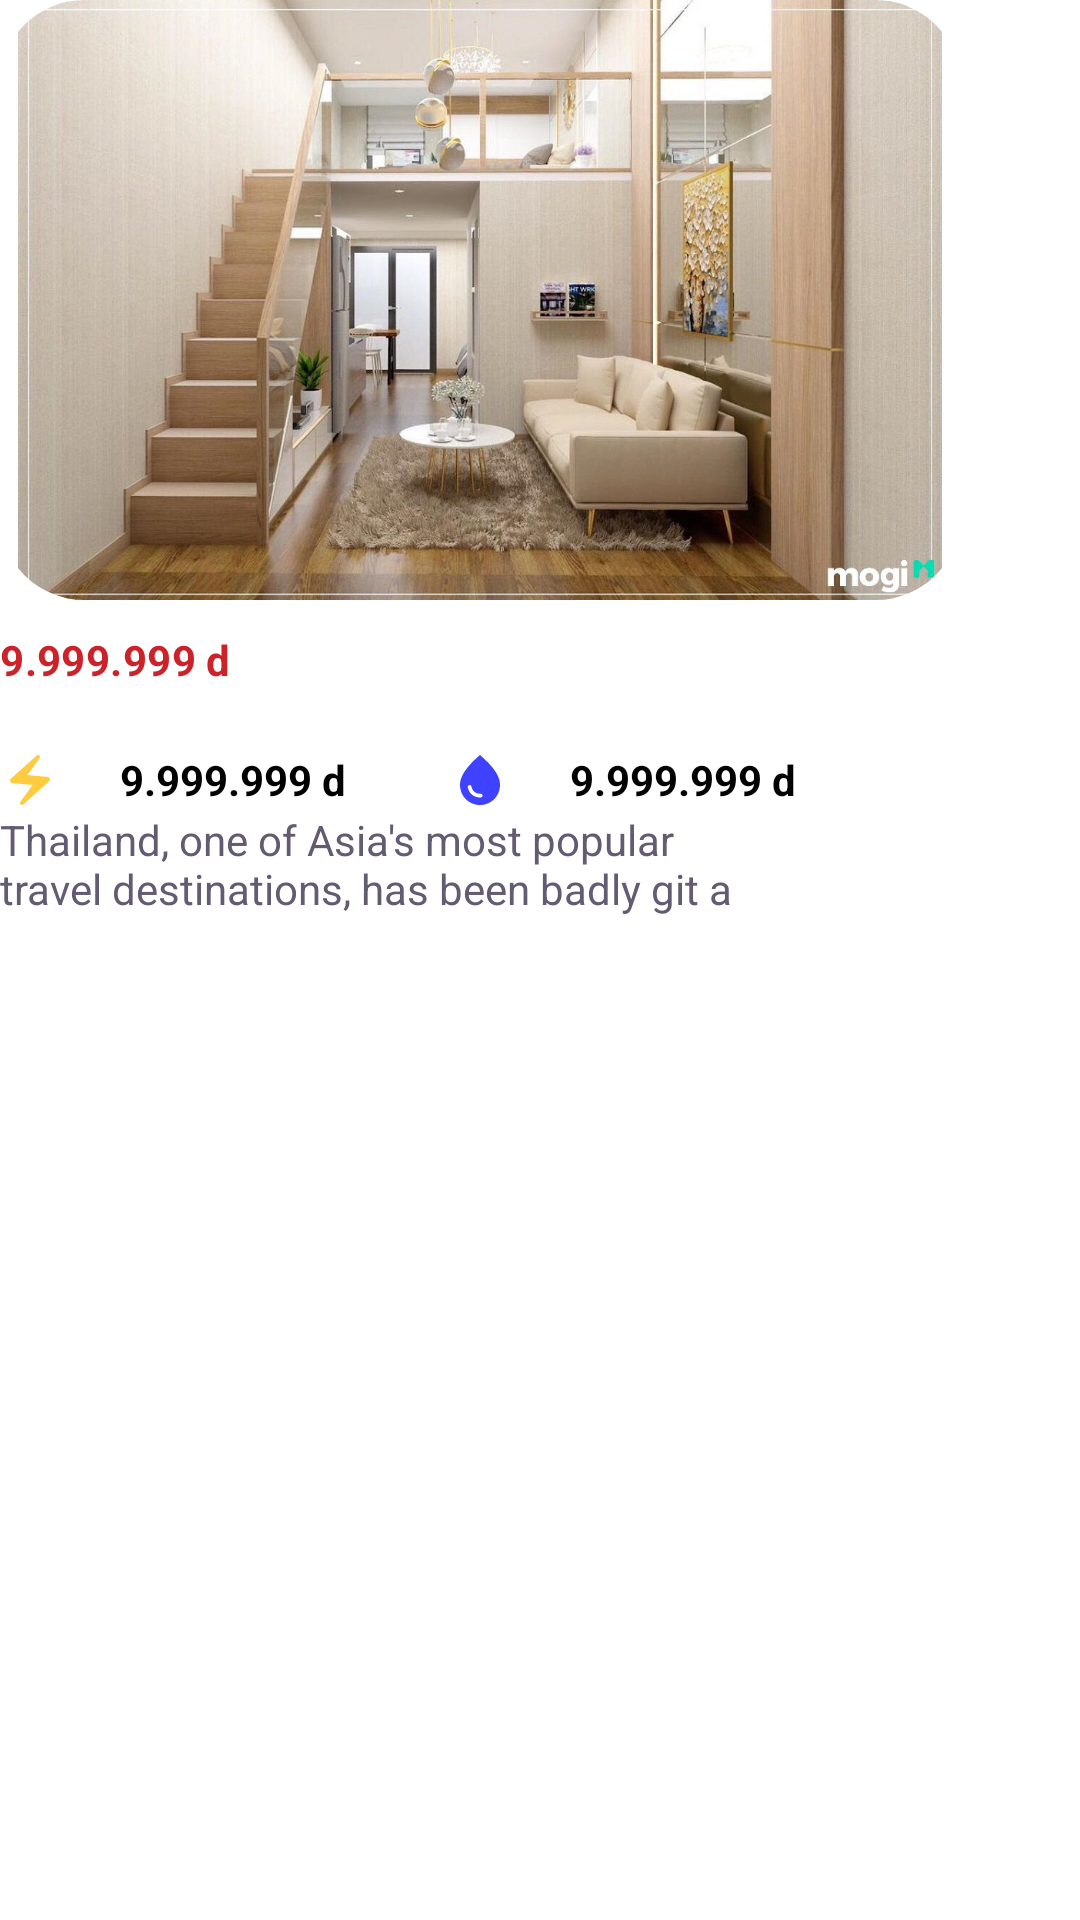

Icons on this 1080*1920 Android screen, each with the point to tap as (x,y):
electric bolt: (30,780)
water drop: (480,780)
